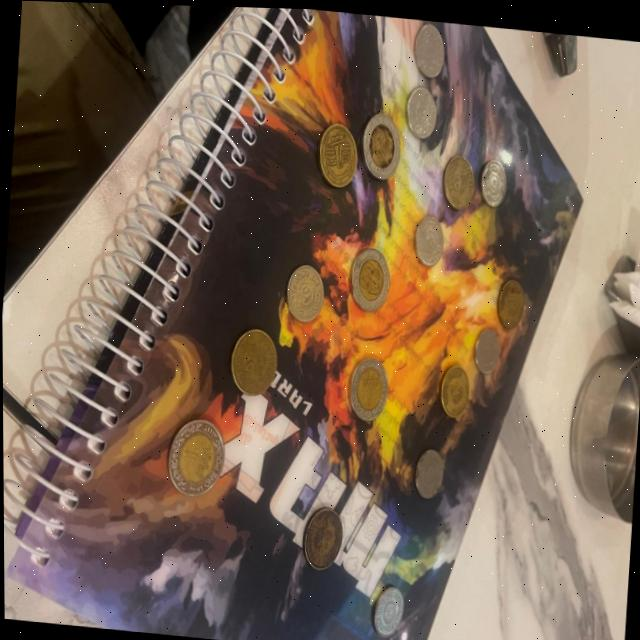Half Pound: (221, 320, 279, 405)
One Pound: (360, 105, 403, 180)
quarter pound: (475, 152, 513, 209)
